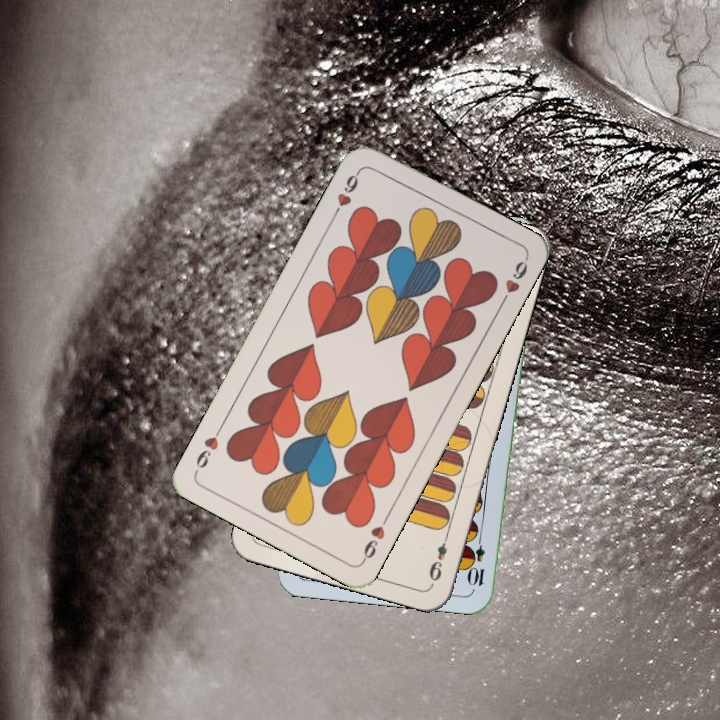E10: (467, 529, 488, 589)
E9: (425, 529, 452, 584)
H9: (329, 166, 364, 220), (358, 511, 392, 565)
